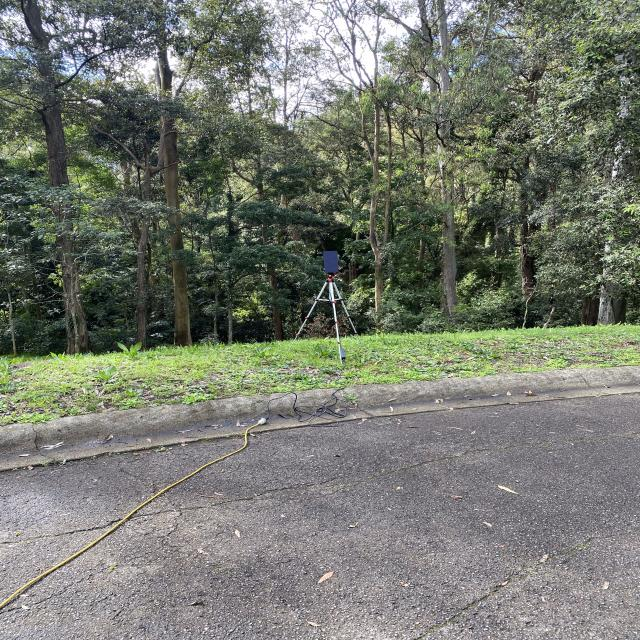matrix: (321, 250, 342, 273)
